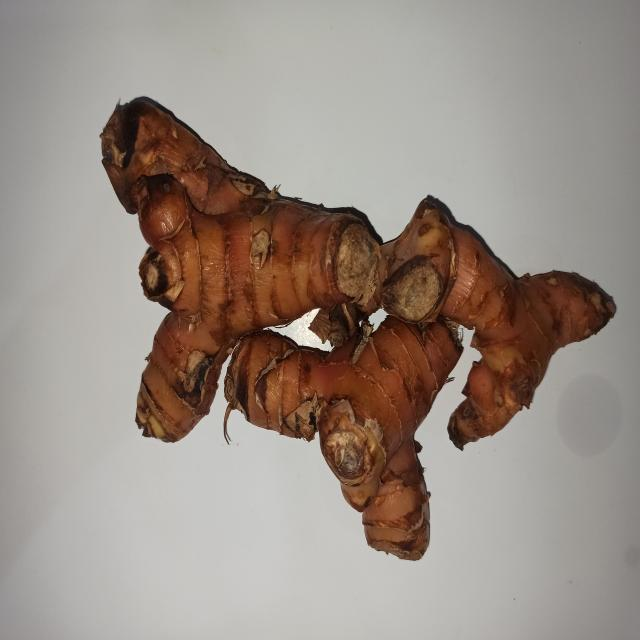ginger: (100, 87, 584, 524)
